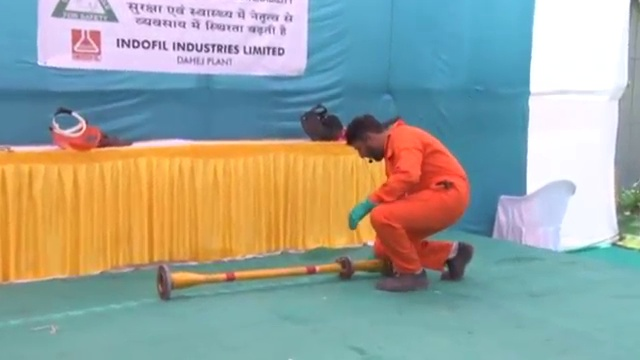helmet_off: (346, 116, 391, 165)
person: (342, 110, 475, 288)
